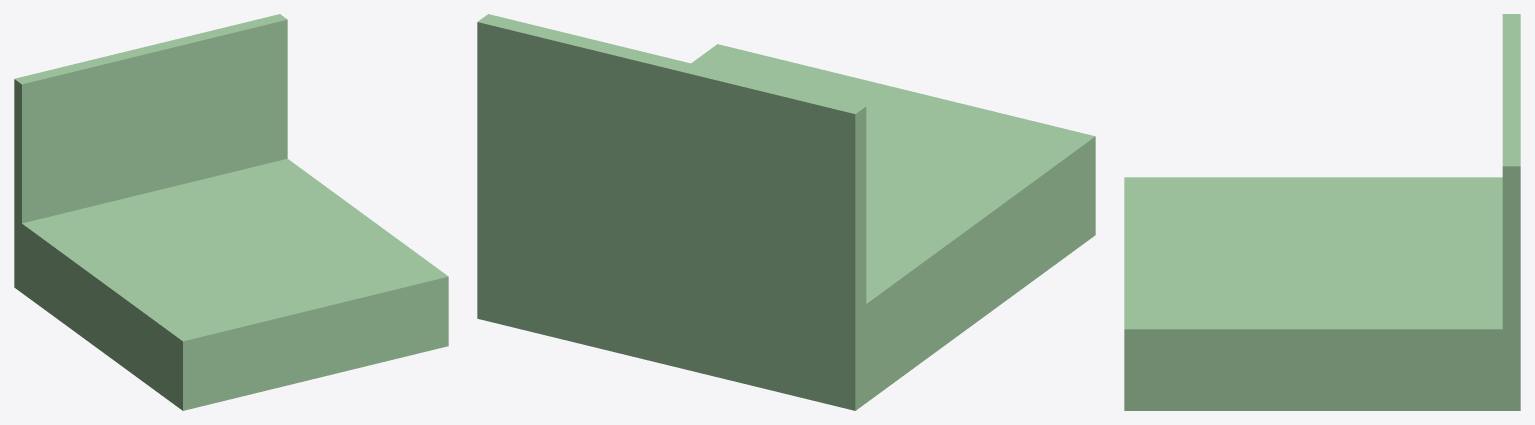
3 renders of one model, left to right at view 1: azimuth 30°, elevation 25°; view 2: azimuth 150°, elevation 25°; view 3: azimuth 270°, elevation 25°, orthographic. The views are drawn at different scales.
Parts seen in each view (by area): view 1: mattress, headboard; view 2: mattress, headboard; view 3: mattress, headboard.
Part boxes in pixels (<box>): mattress: <box>14,158,448,410</box>; headboard: <box>14,14,287,223</box>; mattress: <box>477,44,1095,410</box>; headboard: <box>477,14,866,311</box>; mattress: <box>1124,177,1520,410</box>; headboard: <box>1502,14,1520,329</box>.
Bounding box in the file's own units: 2 × 1.5 × 2.2.
